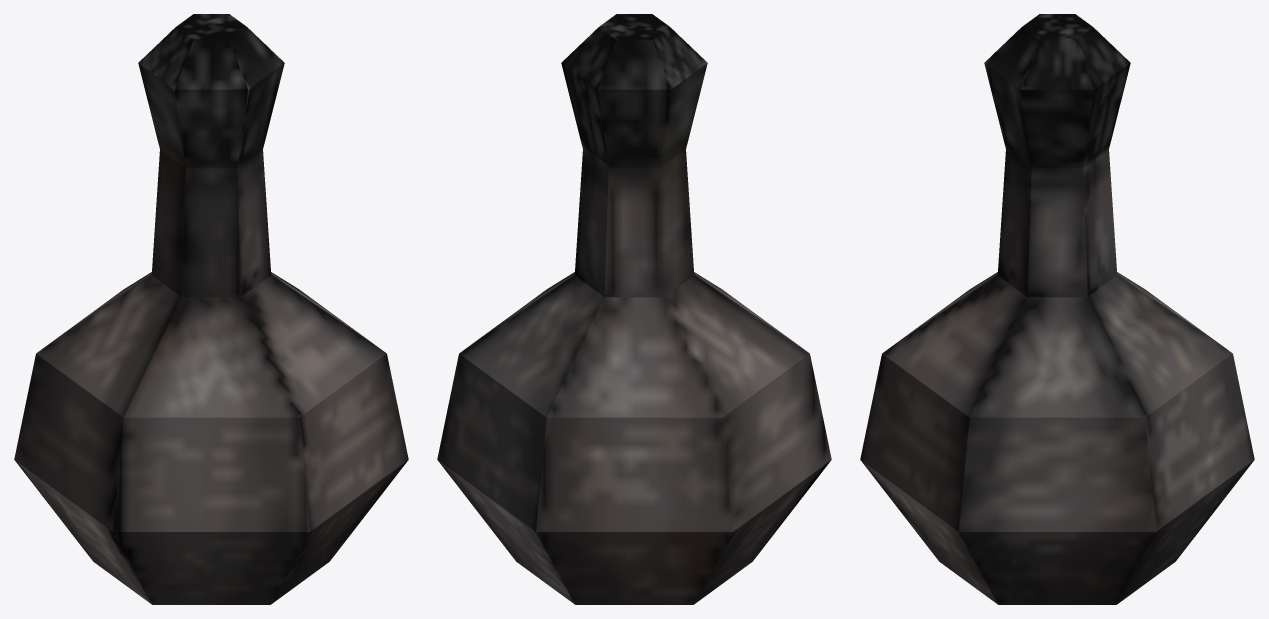
File: Bottle.fbx
3 views of the same model, side by side, from view 1: azimuth 30°, elevation 25°; view 2: azimuth 150°, elevation 25°; view 3: azimuth 270°, elevation 25° (orthographic).
Visible parts, largest first — view 1: Bottle; view 2: Bottle; view 3: Bottle.
Part boxes in pixels (x1=…): Bottle: x1=14, y1=14, x2=408, y2=604; Bottle: x1=437, y1=14, x2=831, y2=604; Bottle: x1=860, y1=14, x2=1254, y2=604.
Bounding box in the file's own units: 102 × 176 × 118.
1 material, 1 textured.
